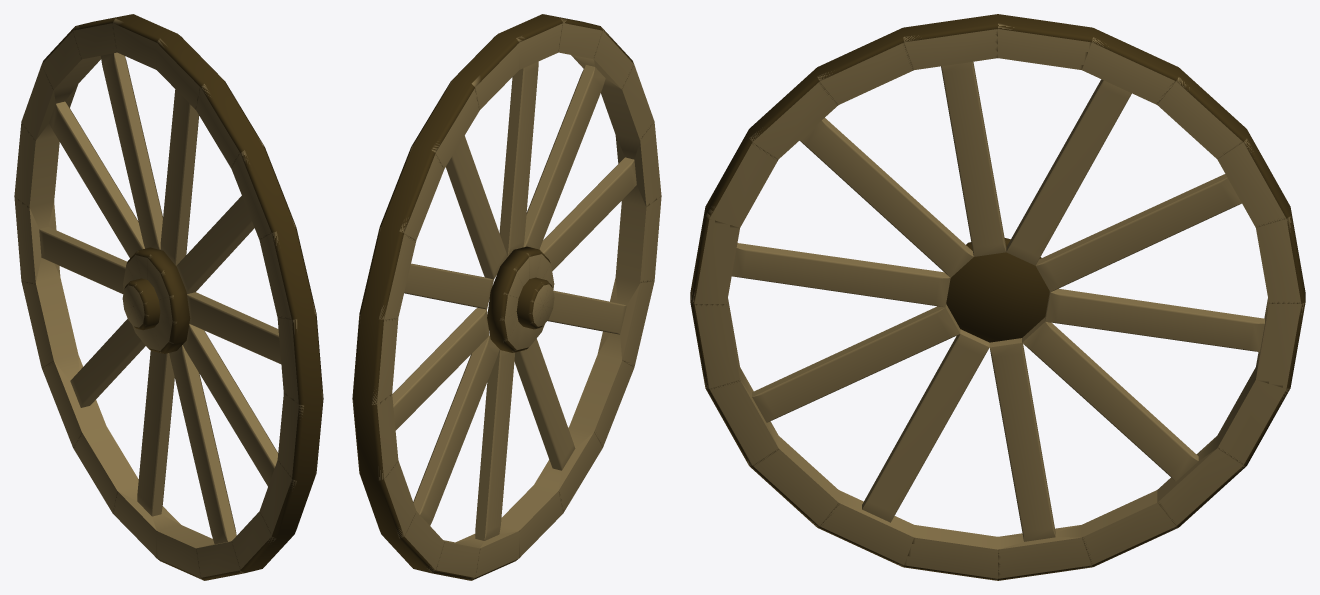
Rendered from mdl_wheel_br.fbx.
3 views of the same model, side by side, from view 1: azimuth 30°, elevation 25°; view 2: azimuth 150°, elevation 25°; view 3: azimuth 270°, elevation 25° (orthographic). The views are drawn at different scales.
Parts seen in each view (by area): view 1: SM_Wheel_BR; view 2: SM_Wheel_BR; view 3: SM_Wheel_BR.
Boxes of the visible parts, x1,y1,x2,y2 form: SM_Wheel_BR: [14, 14, 323, 580]; SM_Wheel_BR: [352, 14, 661, 580]; SM_Wheel_BR: [690, 14, 1305, 580].
Bounding box in the file's own units: 0.098 × 1.01 × 1.01.
Materials: 1 (1 with a texture image).
